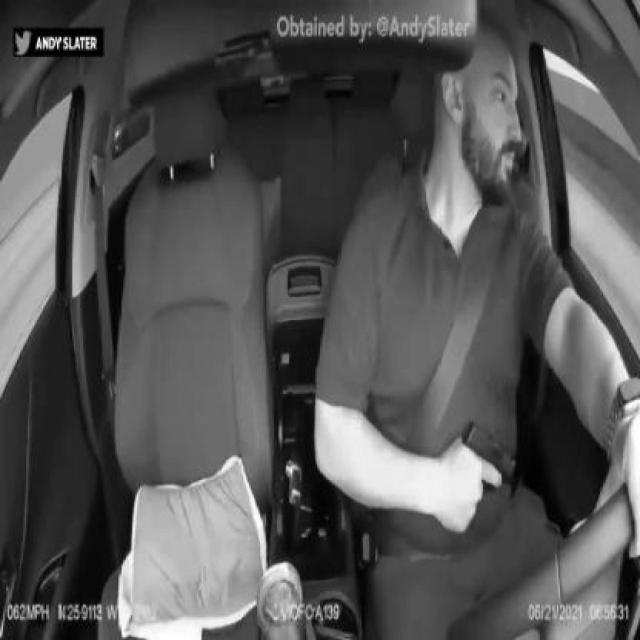weapon: (459, 417, 519, 481)
